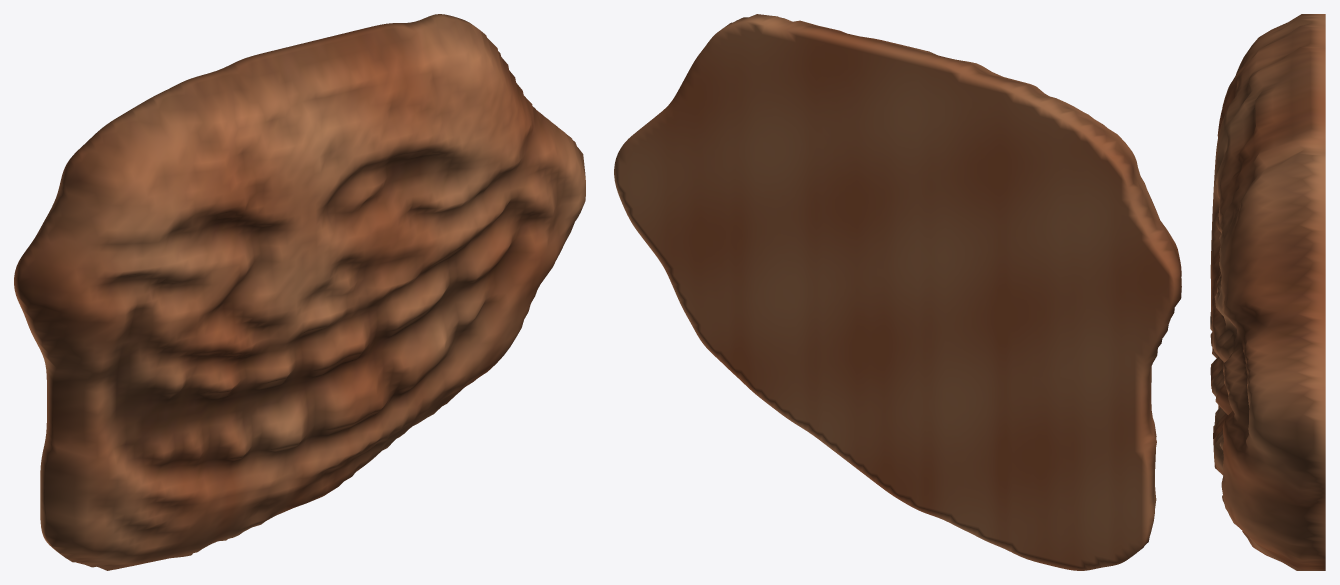
File: tf-portalface.glb
3 renders of one model, left to right at view 1: azimuth 30°, elevation 25°; view 2: azimuth 150°, elevation 25°; view 3: azimuth 270°, elevation 25°, orthographic. The views are drawn at different scales.
Parts seen in each view (by area): view 1: tf-portalface; view 2: tf-portalface; view 3: tf-portalface.
Part boxes in pixels (x1=…): tf-portalface: x1=14, y1=14, x2=585, y2=570; tf-portalface: x1=614, y1=14, x2=1181, y2=570; tf-portalface: x1=1210, y1=14, x2=1325, y2=570.
Size of the model in its own units: 2.48 by 2.01 by 0.3997.
